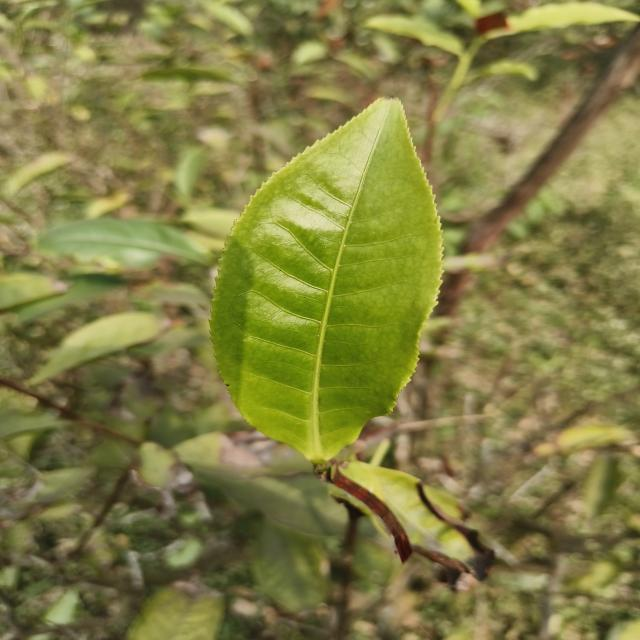Leaf: (211, 99, 441, 463), (342, 461, 482, 576), (31, 312, 163, 384), (37, 218, 206, 268), (224, 474, 346, 535), (173, 431, 312, 482), (252, 519, 328, 612), (127, 587, 223, 640), (364, 14, 463, 56), (507, 2, 640, 33), (5, 152, 72, 197), (0, 273, 66, 311), (142, 67, 233, 82)
